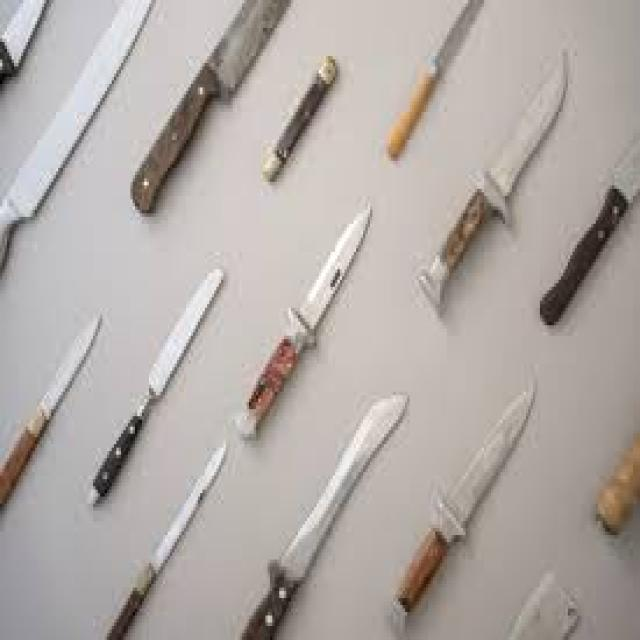Knife: (238, 388, 410, 637), (0, 0, 153, 276), (414, 46, 568, 312), (388, 374, 538, 633), (128, 0, 291, 213), (88, 266, 224, 504)
